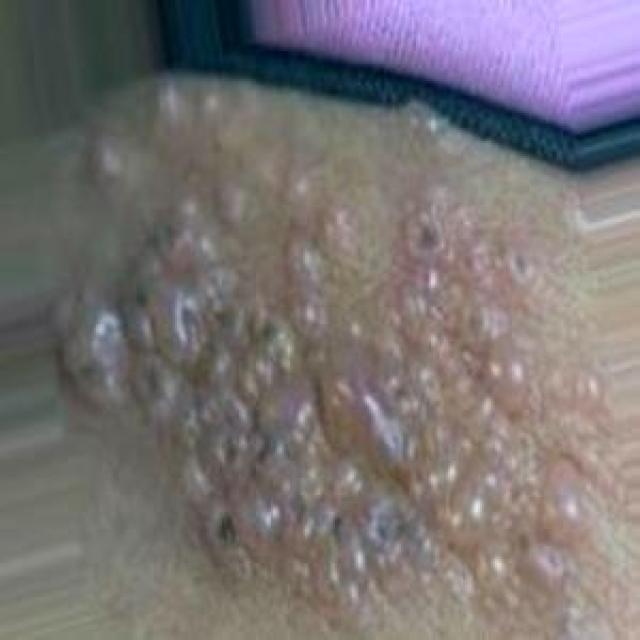Shingles: (67, 76, 600, 612)
